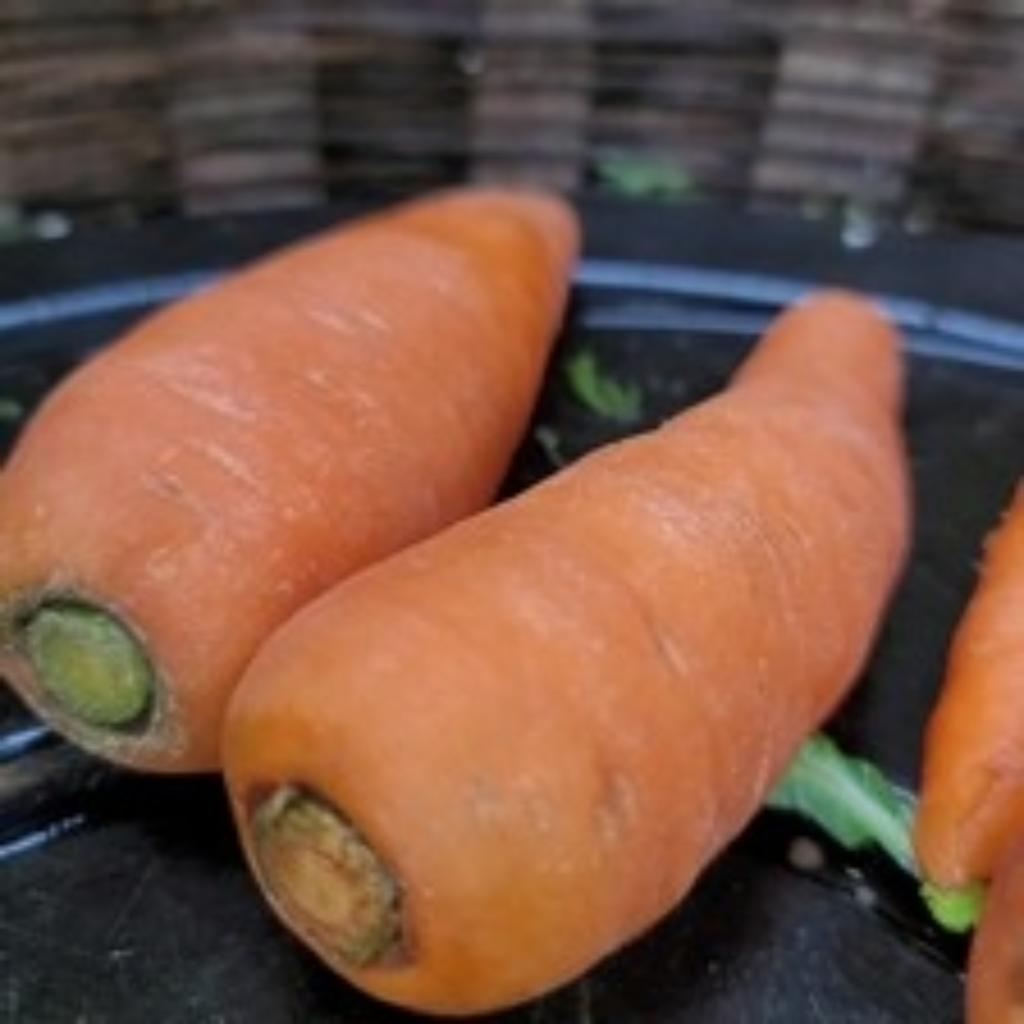carrot: (219, 293, 896, 1006), (0, 187, 567, 763)
